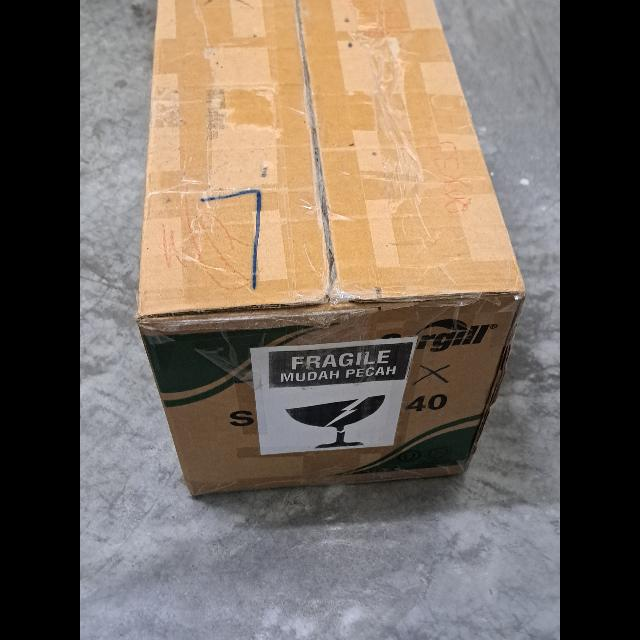papelão: (138, 1, 524, 500)
